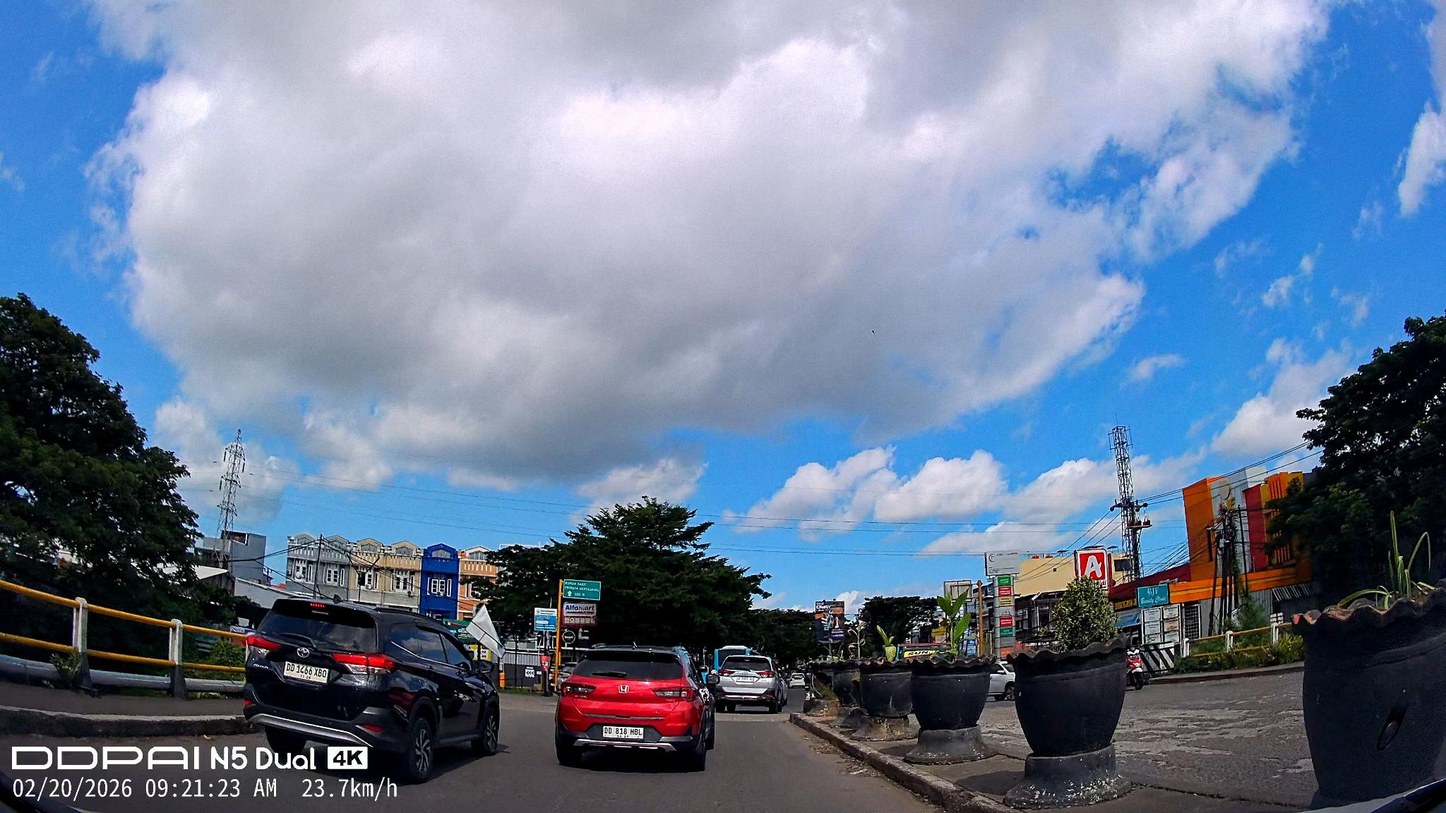rambu_teks: (563, 579, 601, 600)
